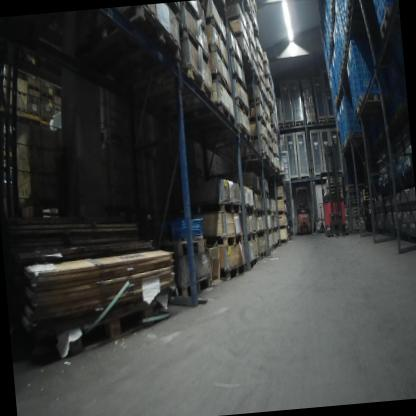forklift: (317, 142, 347, 239), (293, 186, 313, 236)
pallet: (99, 2, 182, 67), (65, 307, 147, 355), (183, 63, 214, 106), (181, 26, 210, 66), (180, 0, 206, 36), (160, 240, 206, 260), (178, 274, 212, 299), (205, 15, 228, 51), (198, 199, 243, 217), (208, 42, 231, 75), (215, 100, 237, 130), (204, 233, 244, 249), (211, 72, 233, 101), (218, 263, 247, 282), (378, 5, 394, 39), (241, 151, 271, 168), (228, 15, 249, 38), (356, 92, 381, 111), (231, 71, 248, 94), (235, 96, 250, 119), (229, 47, 243, 71), (236, 123, 252, 144), (165, 2, 181, 23), (234, 30, 249, 51), (249, 115, 266, 131), (243, 48, 254, 71), (251, 134, 269, 146), (248, 97, 264, 110), (345, 0, 353, 23), (343, 39, 351, 60), (27, 82, 41, 93), (253, 68, 261, 87), (345, 183, 364, 191), (28, 107, 41, 118), (344, 20, 351, 39), (252, 19, 259, 38), (41, 90, 53, 101), (249, 256, 259, 269), (253, 207, 264, 218), (245, 203, 254, 216), (264, 74, 272, 88), (247, 231, 257, 242), (257, 251, 268, 261), (41, 114, 53, 123), (262, 90, 269, 105), (257, 46, 264, 61), (253, 187, 262, 198), (353, 106, 360, 120), (268, 161, 276, 173), (264, 111, 271, 124), (266, 127, 273, 140), (256, 229, 265, 239), (17, 89, 28, 97), (341, 56, 347, 70), (337, 81, 343, 95), (277, 195, 285, 205), (16, 105, 27, 112), (266, 88, 273, 99), (53, 105, 62, 113), (339, 68, 344, 82), (278, 210, 286, 218), (280, 237, 289, 244), (283, 123, 295, 128), (268, 145, 274, 155), (334, 95, 339, 107), (294, 121, 305, 126), (306, 120, 317, 125), (318, 119, 328, 124), (279, 224, 287, 230), (272, 226, 278, 234), (329, 28, 333, 40), (344, 138, 348, 147), (328, 118, 335, 123), (346, 133, 350, 141), (271, 211, 277, 216), (328, 70, 331, 80), (265, 191, 269, 198), (270, 245, 273, 253), (279, 124, 284, 128)
pallet_truck: (316, 203, 326, 233), (287, 202, 293, 239)
small_load_carrier: (374, 0, 399, 24), (371, 0, 382, 6)
